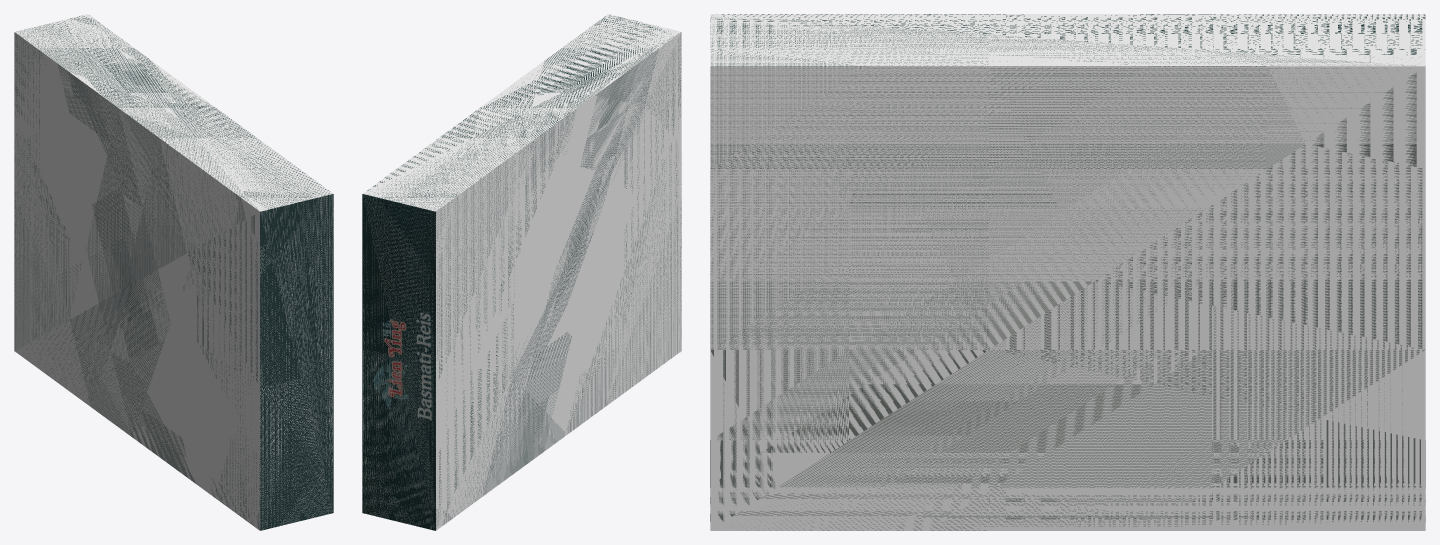
The model's file is basmati_rice.obj.
The picture shows the model from 3 angles, left to right: view 1: azimuth 30°, elevation 25°; view 2: azimuth 150°, elevation 25°; view 3: azimuth 270°, elevation 25°; orthographic projection. The views are drawn at different scales.
Visible parts, largest first — view 1: basmati_rice; view 2: basmati_rice; view 3: basmati_rice.
Boxes of the visible parts, x1,y1,x2,y2 form: basmati_rice: (14,14,333,530); basmati_rice: (362,14,681,530); basmati_rice: (710,14,1425,530).
Bounding box in the file's own units: 0.0293 × 0.1215 × 0.1696.
6 materials, 5 textured.
